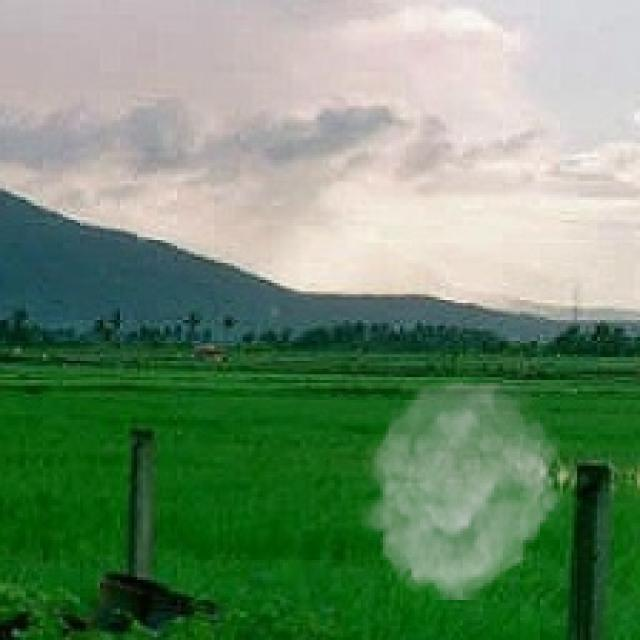Smoke: (357, 383, 569, 600)
